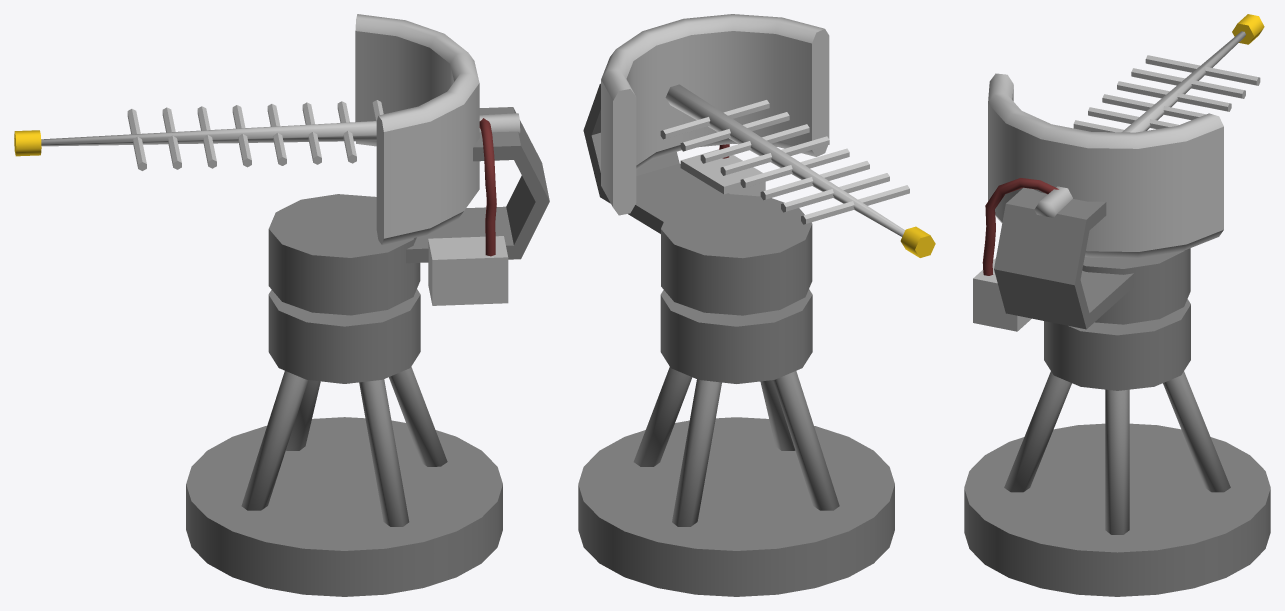
Rendered from ExportedBlenderFBXFile.fbx.
The picture shows the model from 3 angles, left to right: view 1: azimuth 30°, elevation 25°; view 2: azimuth 150°, elevation 25°; view 3: azimuth 270°, elevation 25°; orthographic projection. The views are drawn at different scales.
Parts seen in each view (by area): view 1: Base, Antenna; view 2: Base, Antenna; view 3: Base, Antenna.
Part boxes in pixels (x1,y1,x2,y2): Base: [186, 289, 502, 596]; Antenna: [14, 14, 549, 315]; Base: [578, 289, 894, 596]; Antenna: [583, 14, 935, 315]; Base: [964, 299, 1270, 596]; Antenna: [973, 14, 1264, 331].
Bounding box in the file's own units: 2 × 2.01 × 1.25.
